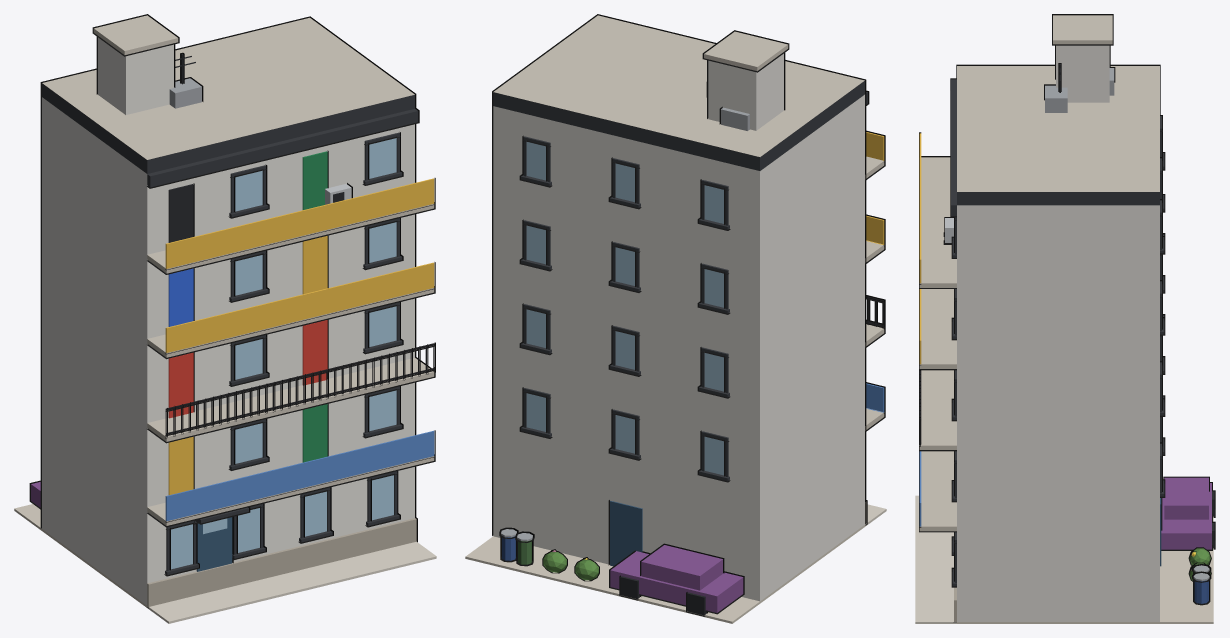
File: Blok_duz_5k_7.fbx
3 views of the same model, side by side, from view 1: azimuth 30°, elevation 25°; view 2: azimuth 150°, elevation 25°; view 3: azimuth 270°, elevation 25° (orthographic). The views are drawn at different scales.
Parts seen in each view (by area): view 1: Blok_duz_5k_7; view 2: Blok_duz_5k_7; view 3: Blok_duz_5k_7.
Boxes of the visible parts, bbox=[...] form: Blok_duz_5k_7: bbox=[14, 14, 436, 623]; Blok_duz_5k_7: bbox=[465, 14, 886, 623]; Blok_duz_5k_7: bbox=[915, 14, 1215, 623].
Size of the model in its own units: 10.09 by 18.36 by 10.07.
